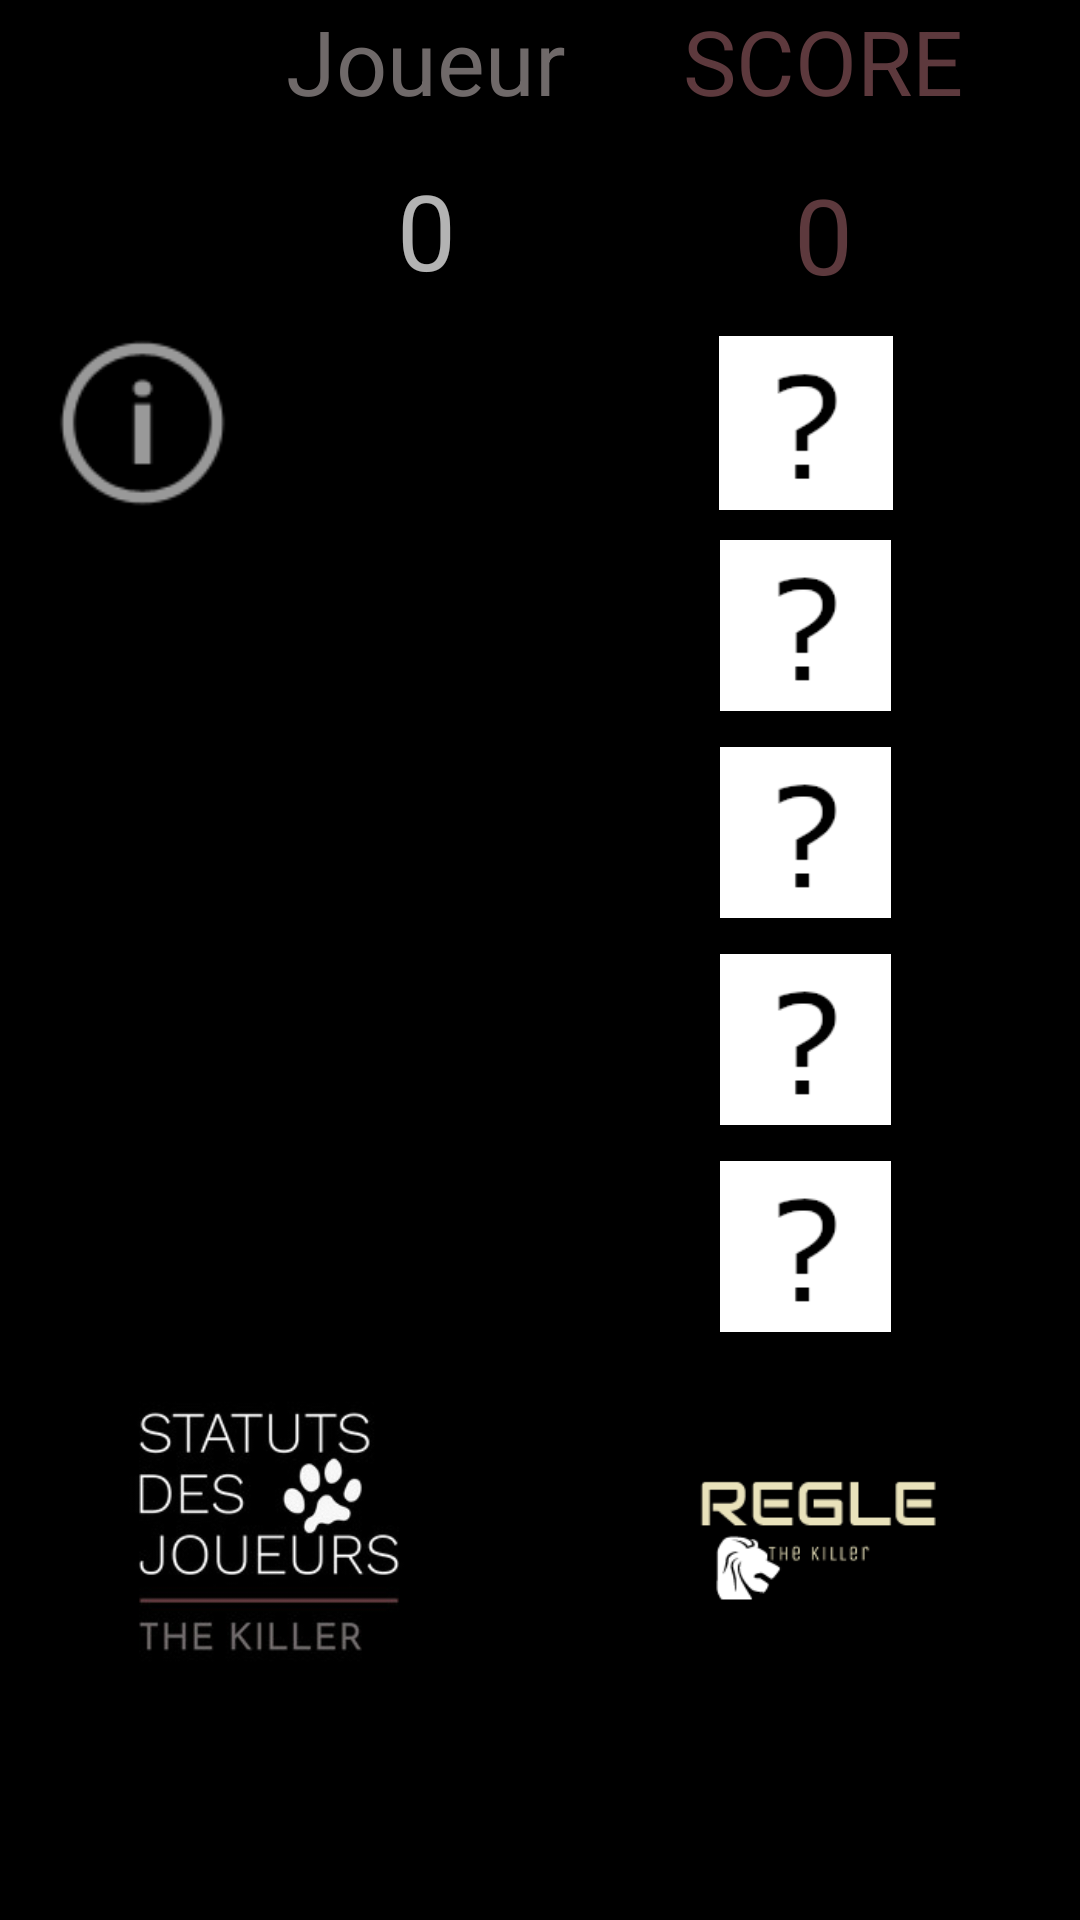

Icon bounding boxes for this 1080 x 1920 phone screenshot, format (x1, y1, x2, y2):
des inconnu: (719, 336, 893, 510), (720, 540, 891, 711), (720, 747, 891, 918), (720, 954, 891, 1125), (720, 1161, 891, 1332)
info details: (61, 342, 224, 505)
